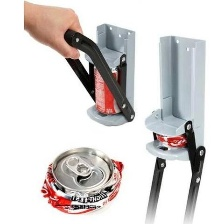can: (37, 144, 127, 215), (91, 62, 122, 116), (151, 131, 189, 150)
